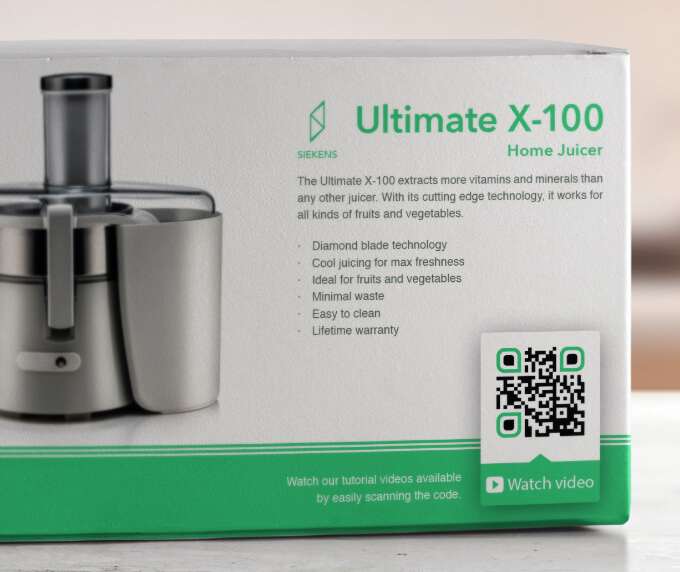qr_code: (491, 342, 599, 448)
